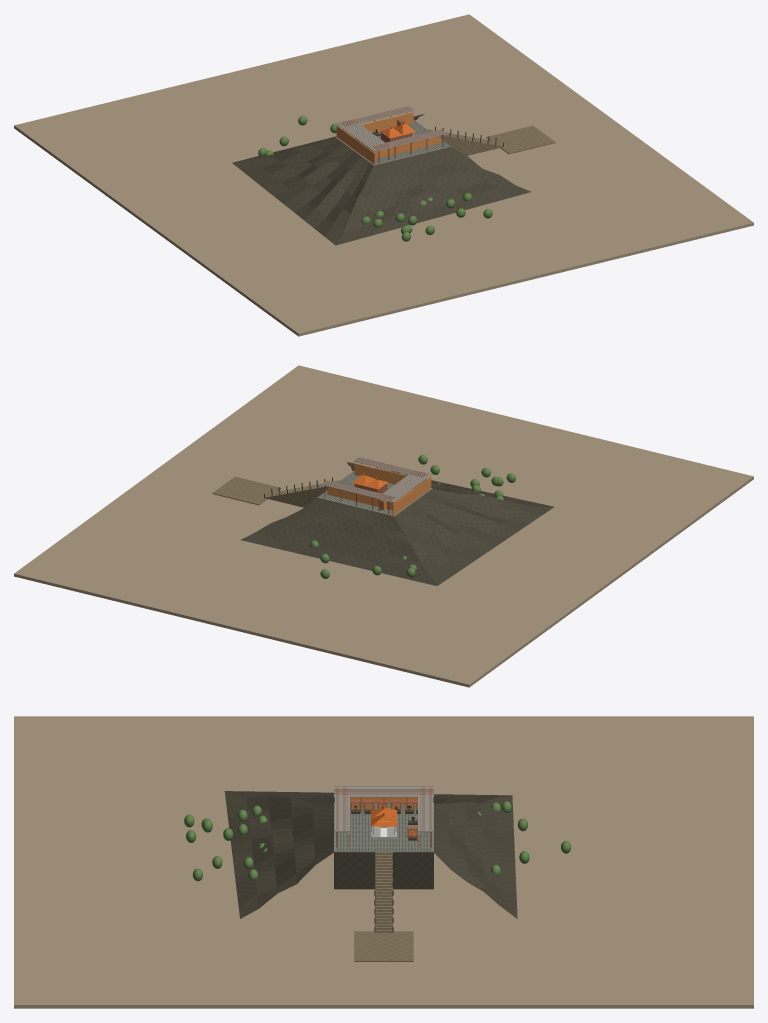
The model's file is gaya_mangalagauri_kshetra_full.glb.
3 views of the same model, one above another, from view 1: azimuth 30°, elevation 25°; view 2: azimuth 150°, elevation 25°; view 3: azimuth 270°, elevation 25° (orthographic). The views are drawn at different scales.
Visible parts, largest first — view 1: Ground_Bhasmakut_Base, Terrain_Bhasmakut_Slope_0, Terrain_Bhasmakut_Slope_1, East_Approach_Road, Summit_Court, West_Covered_Prakara_Corrugated_Roof, Side_Processional_Shelter_Outer_Wall; view 2: Ground_Bhasmakut_Base, Terrain_Bhasmakut_Slope_2, Terrain_Bhasmakut_Slope_1, East_Approach_Road, Summit_Court, Terrain_Bhasmakut_Slope_0, West_Covered_Prakara_Corrugated_Roof, Side_Processional_Shelter_Outer_Wall; view 3: Ground_Bhasmakut_Base, Terrain_Bhasmakut_Slope_0, Terrain_Bhasmakut_Slope_2, Bhasmakut_Summit_Retaining_Block, Summit_Court, East_Approach_Road, Courtyard_Tile_OrnamentDetail, Terrain_Bhasmakut_Slope_1, West_Covered_Prakara_Corrugated_Roof, Side_Processional_Shelter_Corrugated_Roof.001, Side_Processional_Shelter_Corrugated_Roof.
Part boxes in pixels (x1=…): Ground_Bhasmakut_Base: x1=14, y1=14, x2=753, y2=336; Terrain_Bhasmakut_Slope_0: x1=336, y1=147, x2=530, y2=245; Terrain_Bhasmakut_Slope_1: x1=232, y1=138, x2=372, y2=245; East_Approach_Road: x1=486, y1=125, x2=555, y2=154; Summit_Court: x1=335, y1=120, x2=450, y2=165; West_Covered_Prakara_Corrugated_Roof: x1=336, y1=119, x2=391, y2=151; Side_Processional_Shelter_Outer_Wall: x1=372, y1=135, x2=440, y2=159; Ground_Bhasmakut_Base: x1=14, y1=365, x2=753, y2=687; Terrain_Bhasmakut_Slope_2: x1=241, y1=498, x2=436, y2=585; Terrain_Bhasmakut_Slope_1: x1=395, y1=489, x2=553, y2=585; East_Approach_Road: x1=212, y1=476, x2=281, y2=505; Summit_Court: x1=317, y1=471, x2=432, y2=516; Terrain_Bhasmakut_Slope_0: x1=347, y1=462, x2=554, y2=506; West_Covered_Prakara_Corrugated_Roof: x1=376, y1=470, x2=431, y2=502; Side_Processional_Shelter_Outer_Wall: x1=354, y1=463, x2=422, y2=488; Ground_Bhasmakut_Base: x1=14, y1=716, x2=753, y2=1008; Terrain_Bhasmakut_Slope_0: x1=224, y1=791, x2=333, y2=918; Terrain_Bhasmakut_Slope_2: x1=434, y1=795, x2=517, y2=918; Bhasmakut_Summit_Retaining_Block: x1=334, y1=852, x2=433, y2=889; Summit_Court: x1=334, y1=802, x2=433, y2=852; East_Approach_Road: x1=354, y1=931, x2=413, y2=961; Courtyard_Tile_OrnamentDetail: x1=337, y1=804, x2=430, y2=851; Terrain_Bhasmakut_Slope_1: x1=225, y1=791, x2=511, y2=803; West_Covered_Prakara_Corrugated_Roof: x1=334, y1=785, x2=433, y2=796; Side_Processional_Shelter_Corrugated_Roof.001: x1=418, y1=787, x2=433, y2=831; Side_Processional_Shelter_Corrugated_Roof: x1=334, y1=796, x2=349, y2=831.
Size of what is drawn, in the model's own units: 133 by 13.79 by 144.
Materials: 46 (3 with a texture image).
